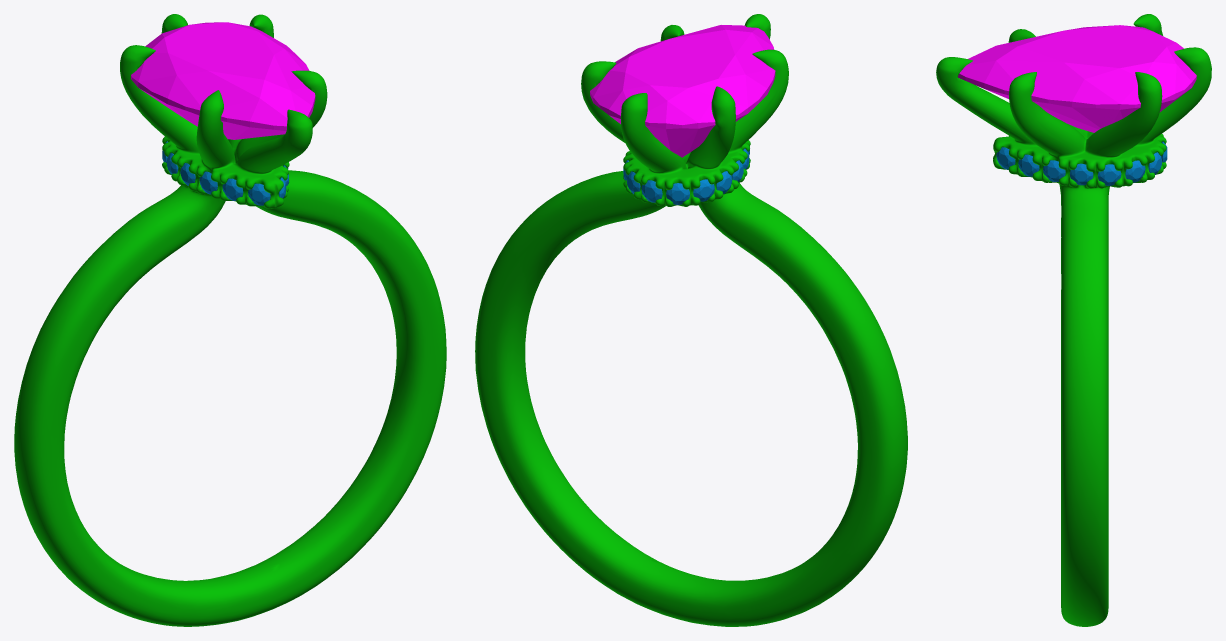
Rendered from BE1D964_PE_200ct_RENDER.glb.
3 views of the same model, side by side, from view 1: azimuth 30°, elevation 25°; view 2: azimuth 150°, elevation 25°; view 3: azimuth 270°, elevation 25° (orthographic).
Visible parts, largest first — view 1: Metal 01, CS_Diamond_Pear; view 2: Metal 01, CS_Diamond_Pear; view 3: Metal 01, CS_Diamond_Pear.
Boxes of the visible parts, x1,y1,x2,y2 form: Metal 01: (14, 14, 446, 626); CS_Diamond_Pear: (131, 22, 315, 139); Metal 01: (475, 14, 907, 626); CS_Diamond_Pear: (590, 25, 775, 157); Metal 01: (936, 14, 1211, 626); CS_Diamond_Pear: (958, 25, 1196, 132).
Bounding box in the file's own units: 20.38 × 25.98 × 11.61.
